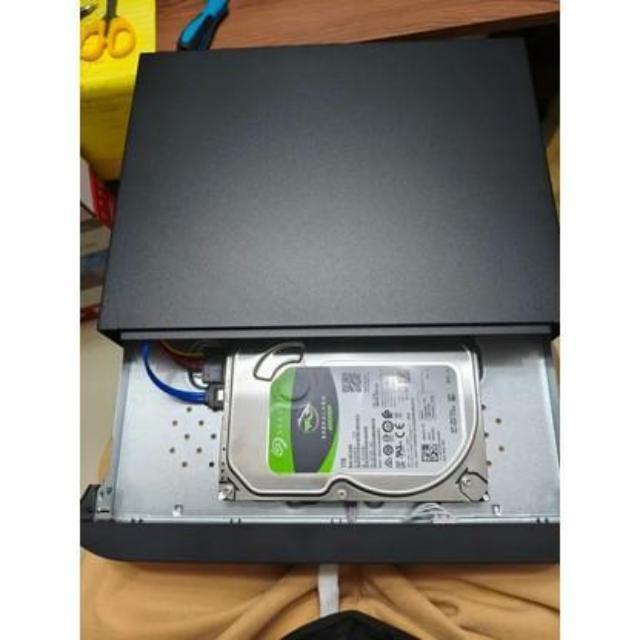DISK: (210, 330, 493, 508)
